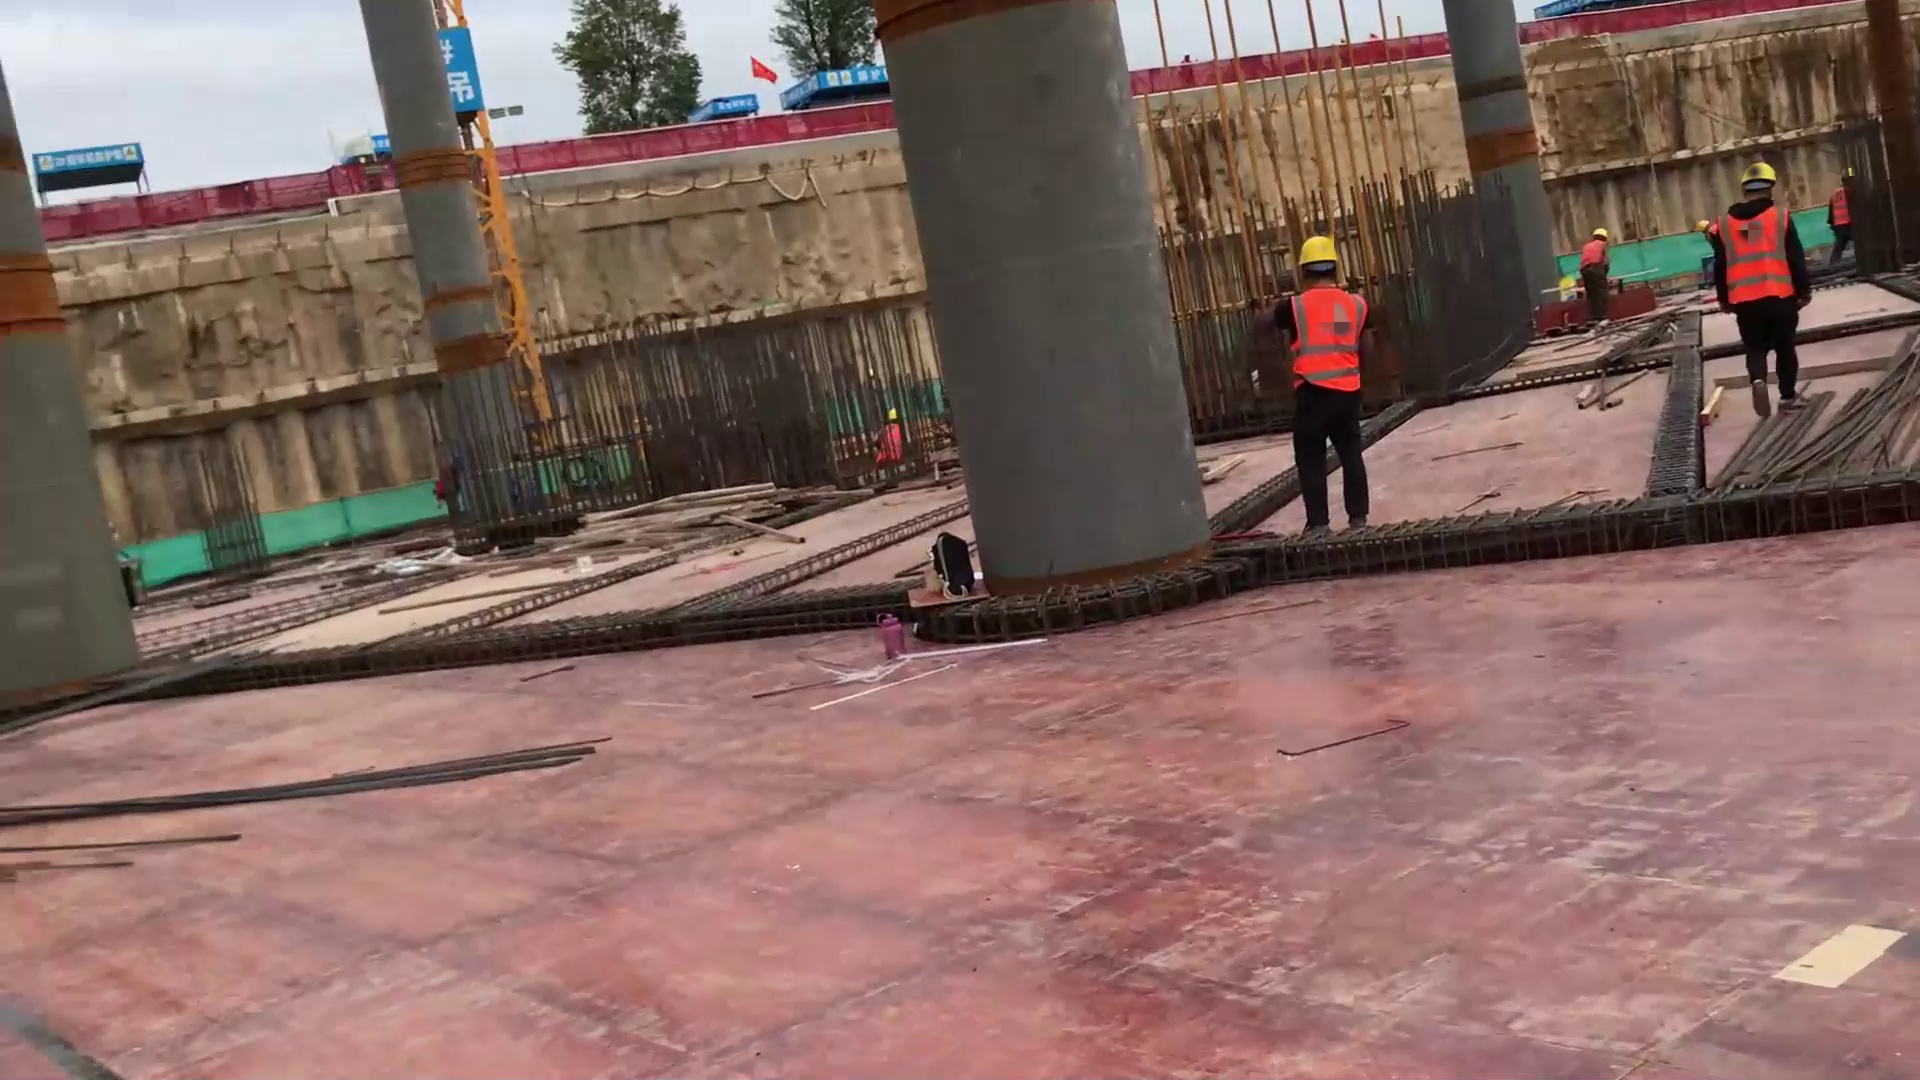helmet: (1298, 234, 1339, 273), (1740, 161, 1777, 193), (1592, 225, 1610, 241), (1694, 218, 1709, 231), (886, 406, 898, 421)
person: (1271, 234, 1375, 536), (1713, 159, 1813, 418), (1579, 224, 1611, 334), (1827, 168, 1858, 269), (867, 406, 907, 471)
vest: (1281, 284, 1370, 395), (1714, 203, 1796, 305), (875, 422, 902, 466), (1829, 185, 1850, 227), (1580, 239, 1605, 269)
